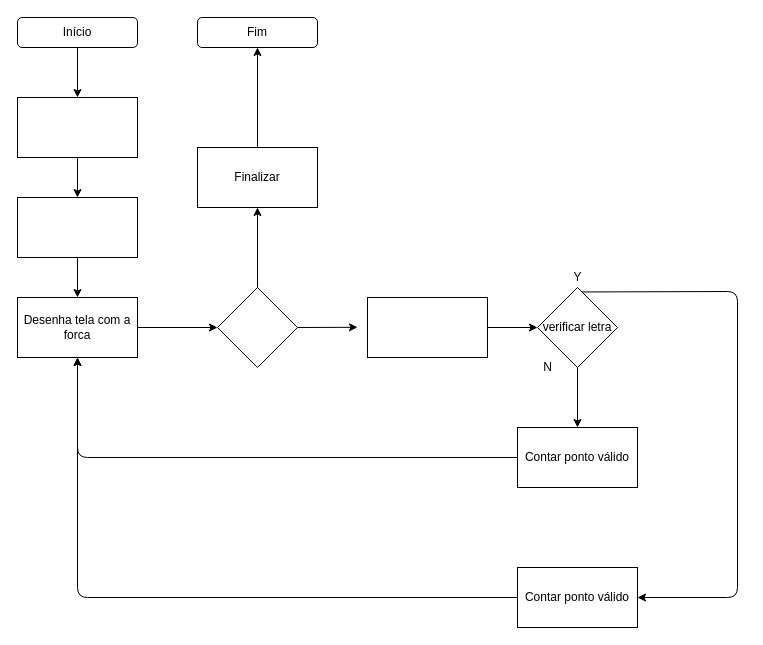
This 763x645 diagram has some shape labels left out. The shapes that lost their labels are listed below. From the top down, each one's centre as x and y in pixels, then its label:
pixel 77 127: Sorteio de uma palavra
pixel 77 227: Definir a quantidade de letras
pixel 257 327: Verifica se terminou o jogo
pixel 427 327: Receber letra do usuário
